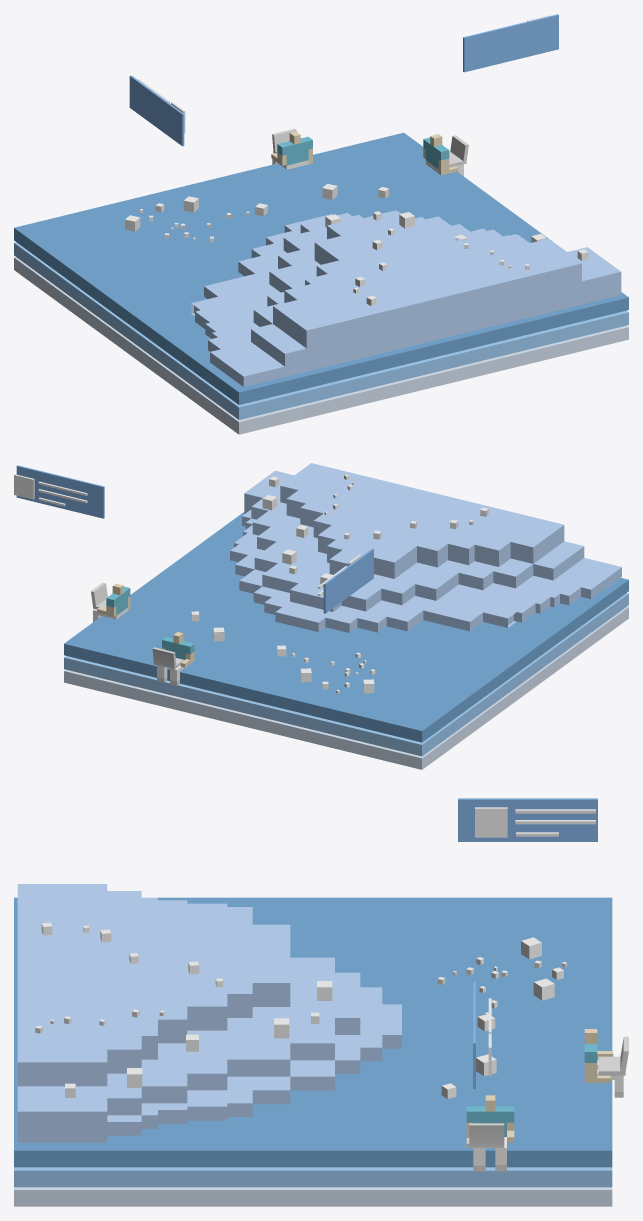
The model's file is island.glb.
3 views of the same model, one above another, from view 1: azimuth 30°, elevation 25°; view 2: azimuth 150°, elevation 25°; view 3: azimuth 270°, elevation 25° (orthographic). The views are drawn at different scales.
Visible parts, largest first — view 1: 第二层, 阶梯, 第三层, 第一层, 立方体_1, 立方体, 人_1, 人; view 2: 第二层, 阶梯, 第三层, 第一层, 立方体_1, 立方体, 人_1, 人, 电脑_1, 立方体.2_1; view 3: 第二层, 阶梯, 第三层, 第一层, 立方体, 人, 人_1, 立方体.2, 电脑, 电脑_1.
Part boxes in pixels (x1,y1,x2,y2): 第二层: [14, 132, 628, 404]; 阶梯: [191, 210, 621, 386]; 第三层: [14, 242, 628, 419]; 第一层: [14, 257, 628, 434]; 立方体_1: [463, 14, 558, 72]; 立方体: [129, 75, 184, 146]; 人_1: [271, 131, 312, 169]; 人: [423, 134, 463, 176]; 第二层: [64, 512, 628, 742]; 阶梯: [230, 463, 621, 632]; 第三层: [64, 593, 628, 756]; 第一层: [64, 606, 628, 769]; 立方体_1: [16, 465, 104, 518]; 立方体: [323, 548, 373, 613]; 人_1: [157, 632, 194, 685]; 人: [93, 583, 130, 621]; 电脑_1: [152, 647, 183, 669]; 立方体.2_1: [14, 474, 34, 499]; 第二层: [14, 897, 612, 1167]; 阶梯: [17, 884, 401, 1142]; 第三层: [14, 1167, 612, 1187]; 第一层: [14, 1187, 612, 1206]; 立方体: [458, 798, 597, 841]; 人: [466, 1095, 514, 1171]; 人_1: [584, 1029, 623, 1097]; 立方体.2: [475, 807, 507, 837]; 电脑: [469, 1123, 504, 1147]; 电脑_1: [598, 1036, 628, 1075].
Size of the model in its own units: 16428 by 5516 by 13366.
